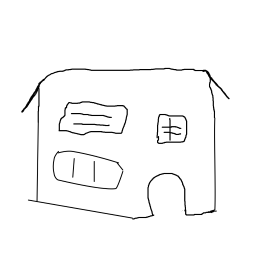closed_window: (51, 93, 134, 143), (48, 147, 131, 193), (152, 111, 187, 152)
door: (141, 166, 193, 223)
single_line_roof: (6, 62, 251, 114)
wall: (27, 97, 221, 224)
